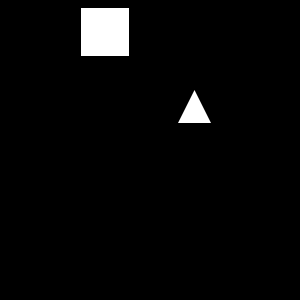circle: (81, 8, 129, 56)
triangle: (178, 90, 211, 123)
